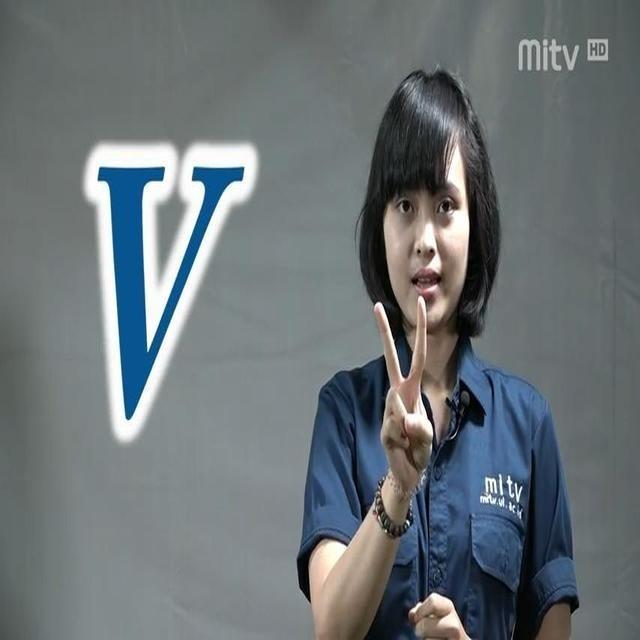V: (356, 286, 452, 490)
